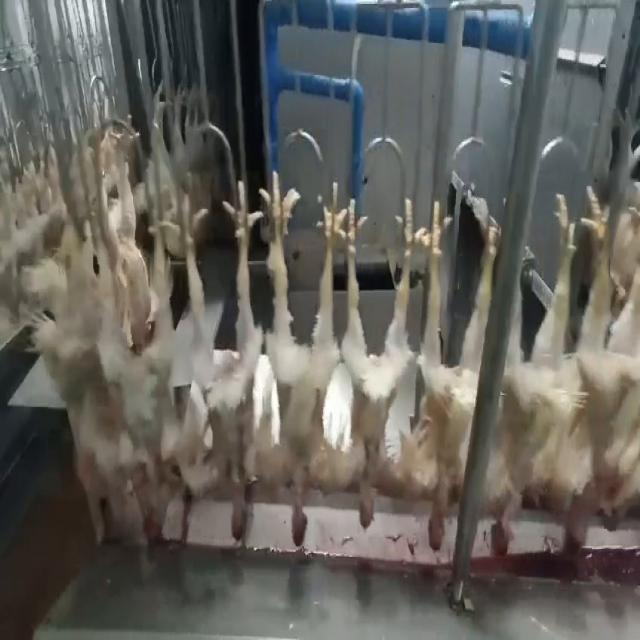chicken: (399, 194, 507, 554), (482, 185, 577, 562), (166, 180, 262, 540), (258, 174, 347, 548), (331, 179, 424, 535), (74, 192, 164, 557), (568, 181, 638, 557)
